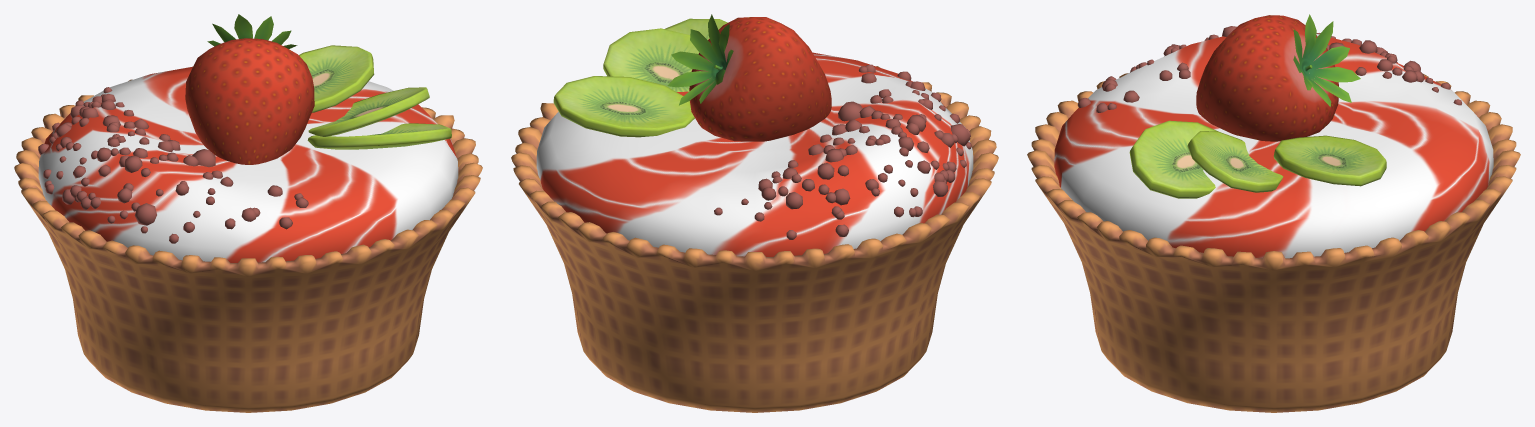
The model's file is dessert_jam_0.fbx.
3 views of the same model, side by side, from view 1: azimuth 30°, elevation 25°; view 2: azimuth 150°, elevation 25°; view 3: azimuth 270°, elevation 25° (orthographic). The views are drawn at different scales.
Visible parts, largest first — view 1: dessert_jam_air_maize; view 2: dessert_jam_air_maize; view 3: dessert_jam_air_maize.
Boxes of the visible parts, x1=… form: dessert_jam_air_maize: x1=14, y1=14, x2=482, y2=412; dessert_jam_air_maize: x1=511, y1=14, x2=998, y2=412; dessert_jam_air_maize: x1=1027, y1=14, x2=1520, y2=412.
Bounding box in the file's own units: 14.4 × 10.58 × 14.36.
